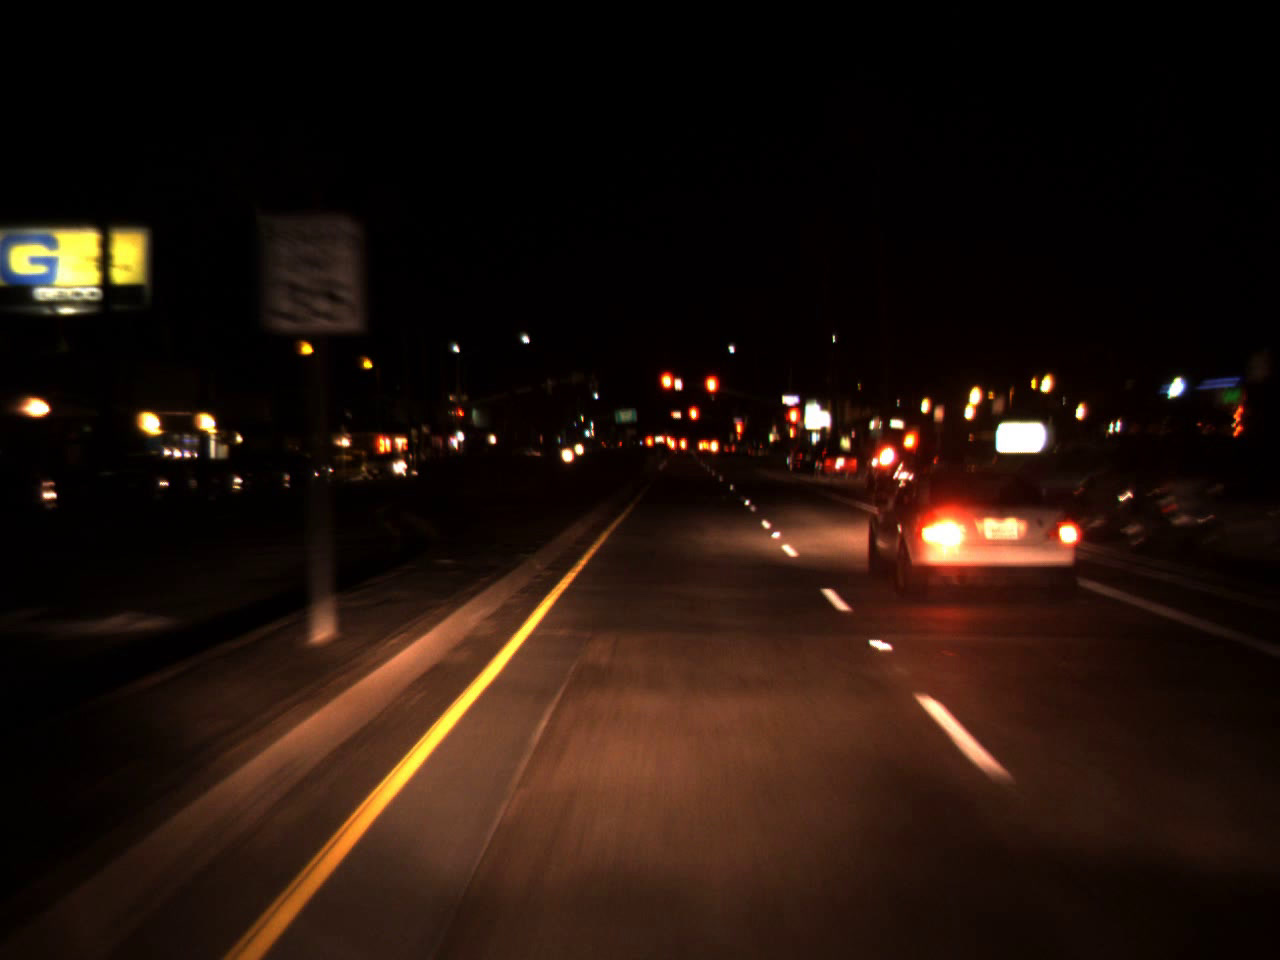stop: (703, 373, 719, 413), (786, 405, 799, 440), (734, 417, 743, 462), (661, 373, 673, 402), (689, 407, 696, 431), (456, 408, 465, 424)
